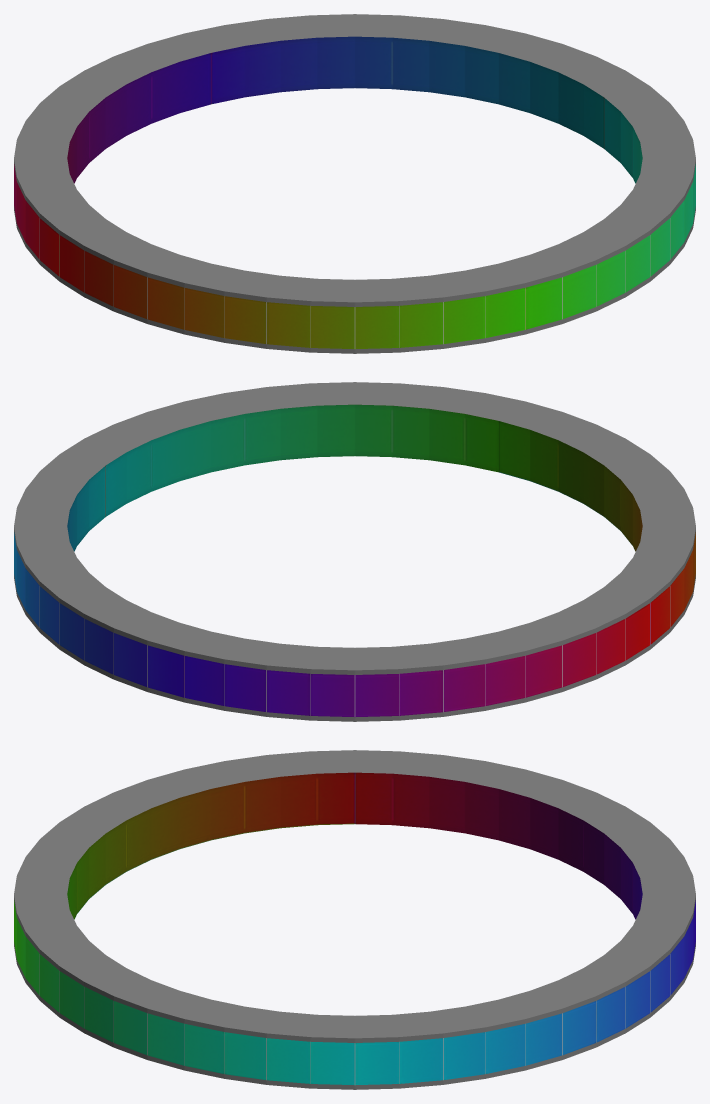
File: ARoS_Rainbow.obj
The picture shows the model from 3 angles, top to bottom: view 1: azimuth 30°, elevation 25°; view 2: azimuth 150°, elevation 25°; view 3: azimuth 270°, elevation 25°; orthographic projection.
Parts seen in each view (by area): view 1: Ring; view 2: Ring; view 3: Ring.
Boxes of the visible parts, box(x1,y1,x2,y2) form: Ring: box(14, 14, 695, 353); Ring: box(14, 382, 695, 721); Ring: box(14, 750, 695, 1089).
Bounding box in the file's own units: 48 × 4 × 48.
Materials: 3 (1 with a texture image).
